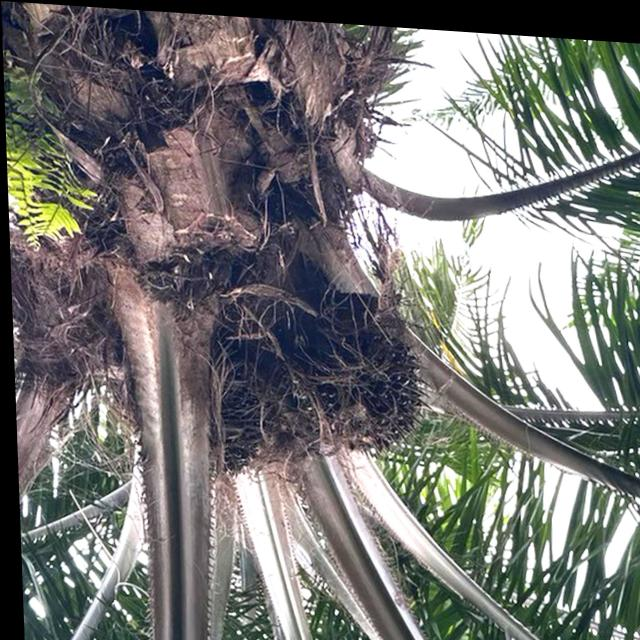almost: (275, 282, 429, 452)
